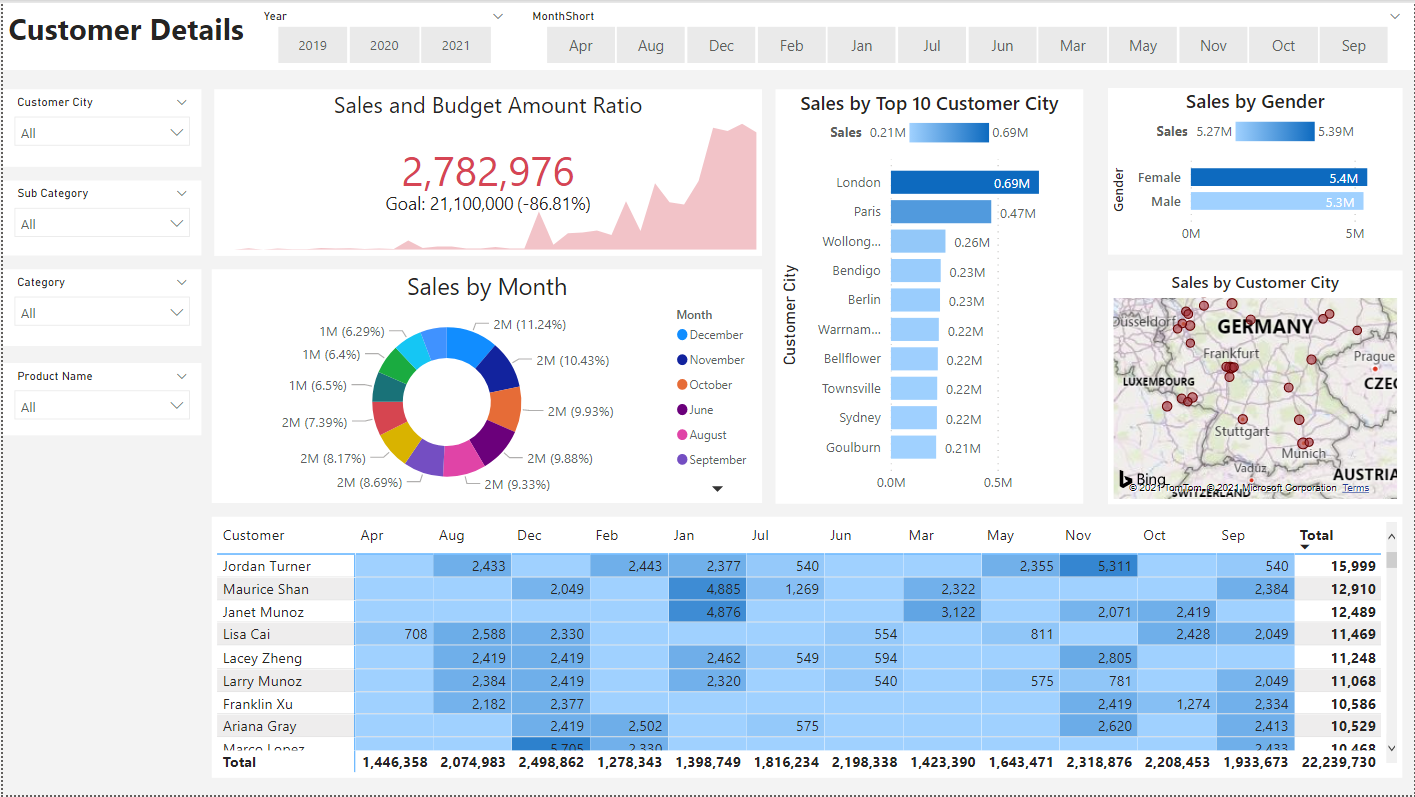

The dashboard page shown, as its layout file describes it:
{"tool":"powerbi","page":{"name":"Customer Details","canvas":[1280,720],"ordinal":1},"visuals":[{"type":"textbox","box":[0,0,1280,61.1],"z":0},{"type":"slicer","fields":{"Values":["DIM_Customer.Customer City"]},"box":[0,77.8,179.6,70.6],"z":1000},{"type":"slicer","fields":{"Values":["DIM_Products.Sub Category"]},"box":[0,160.4,179.6,68.3],"z":2000},{"type":"slicer","fields":{"Values":["DIM_Products.Product Category"]},"box":[0,241.9,179.6,69.4],"z":3000},{"type":"slicer","fields":{"Values":["DIM_Products.Product Name"]},"box":[0,326.9,179.6,65.9],"z":4000},{"type":"slicer","fields":{"Values":["Dim_Date_Excel.Year"]},"box":[223.9,0,243.1,61.1],"z":5000},{"type":"slicer","fields":{"Values":["Dim_Date_Excel.MonthShort"]},"box":[467,0,813,61.1],"z":6000},{"type":"kpi","title":"Sales and Budget Amount Ratio","fields":{"Indicator":["Key Measures.Sales"],"Goal":["Key Measures.Budget_Amount"],"TrendLine":["FactInternetSale.SalesAmount"]},"box":[191.6,77.8,496.9,150.9],"z":7000},{"type":"donutChart","fields":{"Y":["Key Measures.Sales"],"Category":["Dim_Date_Excel.Month"]},"box":[189.2,241.9,499.3,211.9],"z":8000},{"type":"barChart","title":"Sales by Top 10 Customer City","fields":{"Y":["Key Measures.Sales"],"Category":["DIM_Customer.Customer City"]},"box":[700.5,77.8,279,376],"z":9000},{"type":"barChart","title":"Sales by Gender","fields":{"Y":["Key Measures.Sales"],"Category":["DIM_Customer.Gender"]},"box":[1002.5,77.3,267,151.1],"z":10000},{"type":"pivotTable","fields":{"Rows":["DIM_Customer.Full Name"],"Values":["Key Measures.Sales"],"Columns":["Dim_Date_Excel.MonthShort"]},"box":[189.5,466.5,1079.9,236.8],"z":11000},{"type":"map","fields":{"Category":["DIM_Customer.Customer City"],"Size":["Key Measures.Sales"]},"box":[1002.5,242.4,267,212],"z":12000}]}

Visuals, with their boxes in screenshot pixels (x1, y1, x2, y2), scaled from the page's 1280x720 canvas onto the 1415x797 screenshot:
textbox: {"left": 0, "top": 0, "right": 1414, "bottom": 68}
slicer - DIM_Customer.Customer City: {"left": 0, "top": 86, "right": 199, "bottom": 164}
slicer - DIM_Products.Sub Category: {"left": 0, "top": 178, "right": 199, "bottom": 253}
slicer - DIM_Products.Product Category: {"left": 0, "top": 268, "right": 199, "bottom": 345}
slicer - DIM_Products.Product Name: {"left": 0, "top": 362, "right": 199, "bottom": 435}
slicer - Dim_Date_Excel.Year: {"left": 248, "top": 0, "right": 516, "bottom": 68}
slicer - Dim_Date_Excel.MonthShort: {"left": 516, "top": 0, "right": 1414, "bottom": 68}
"Sales and Budget Amount Ratio" kpi: {"left": 212, "top": 86, "right": 761, "bottom": 253}
donutChart - Key Measures.Sales x Dim_Date_Excel.Month: {"left": 209, "top": 268, "right": 761, "bottom": 502}
"Sales by Top 10 Customer City" barChart: {"left": 774, "top": 86, "right": 1083, "bottom": 502}
"Sales by Gender" barChart: {"left": 1108, "top": 86, "right": 1403, "bottom": 253}
pivotTable - DIM_Customer.Full Name x Key Measures.Sales: {"left": 209, "top": 516, "right": 1403, "bottom": 779}
map - DIM_Customer.Customer City x Key Measures.Sales: {"left": 1108, "top": 268, "right": 1403, "bottom": 503}
